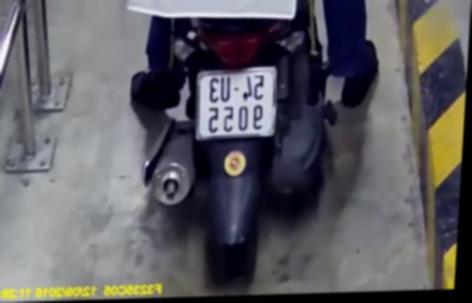License_Plate: (186, 63, 286, 145)
